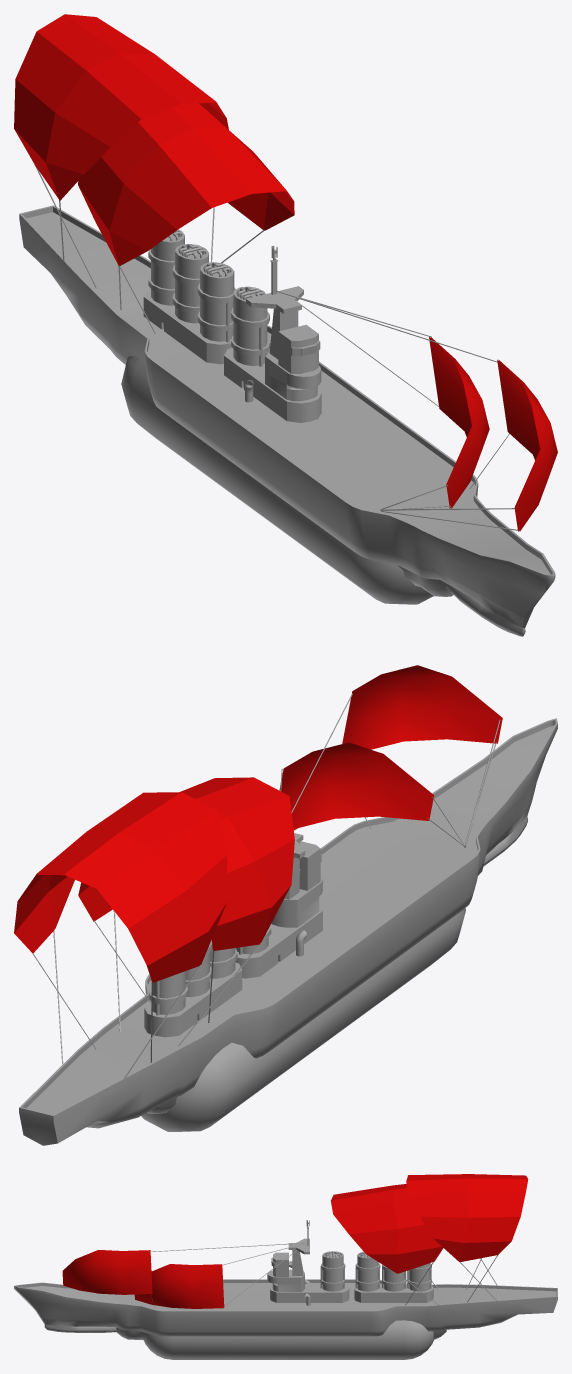
File: ship_navy_cruiser_02.FBX
The picture shows the model from 3 angles, top to bottom: view 1: azimuth 30°, elevation 25°; view 2: azimuth 150°, elevation 25°; view 3: azimuth 270°, elevation 25°; orthographic projection. The views are drawn at different scales.
Parts seen in each view (by area): view 1: ship_navy_cruiser_02; view 2: ship_navy_cruiser_02; view 3: ship_navy_cruiser_02.
Part boxes in pixels (x1,y1,x2,y2): ship_navy_cruiser_02: (14,14,557,636); ship_navy_cruiser_02: (14,665,557,1145); ship_navy_cruiser_02: (14,1174,557,1359).
Size of the model in its own units: 2763 by 5238 by 14457.
